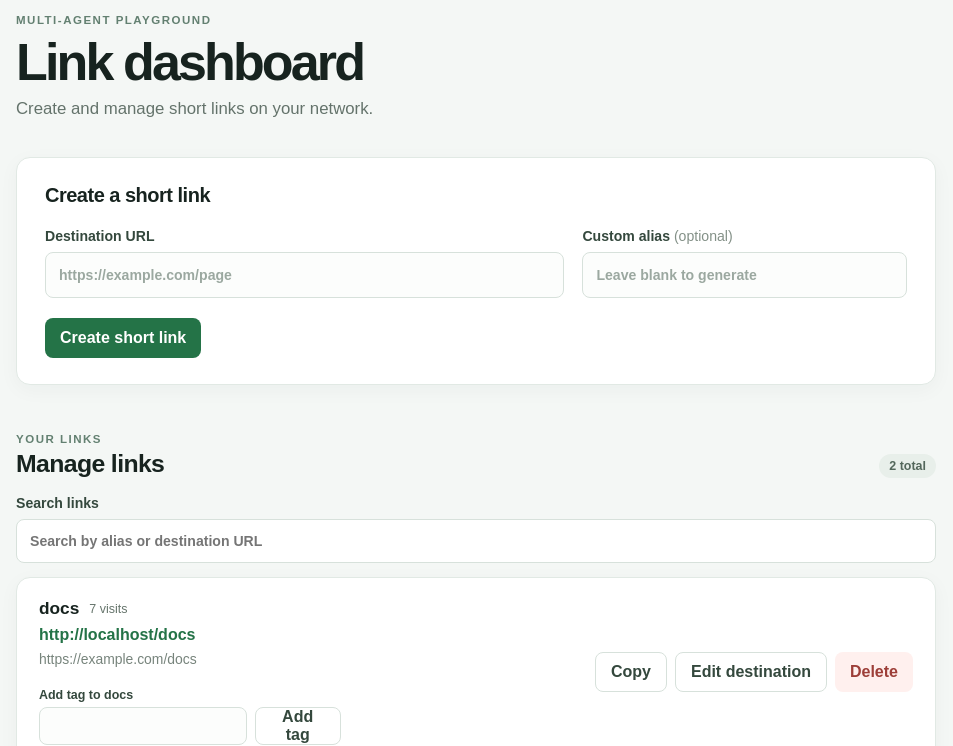
Test case: link dashboard › filters links by alias as the query is typed
The image size is (953, 746).
Check: the heading "docs" is shown, box [39,598,79,619]
Type "blo" into the search field labelled "Search links".
click(476, 541); type("blo")  # box [16,519,936,563]
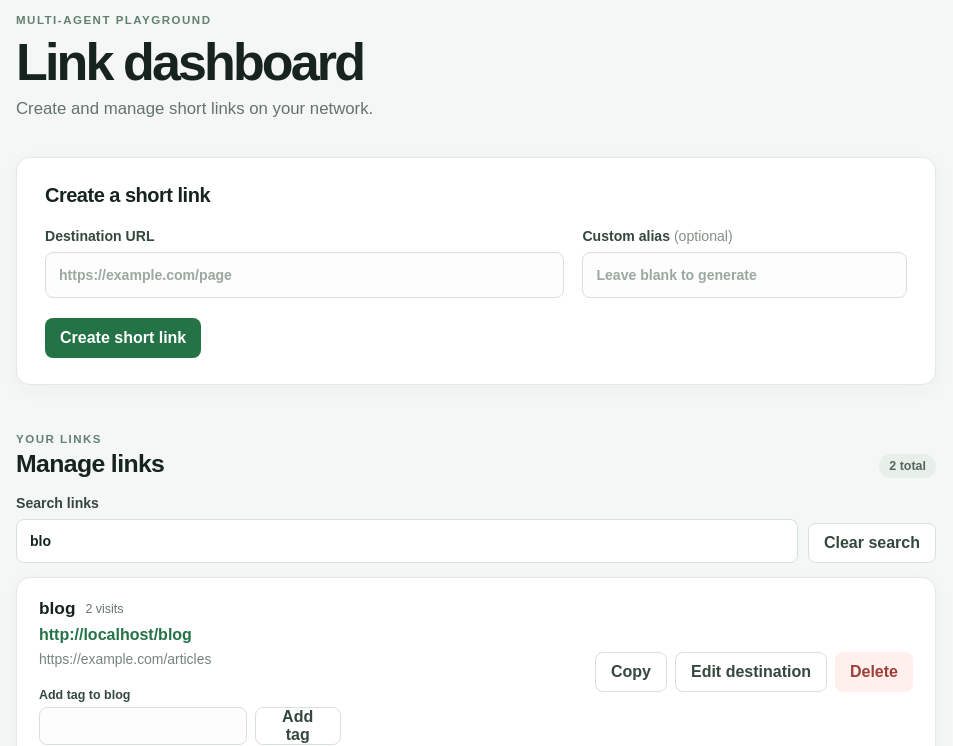
Check: the heading "blog" is shown, box [39,598,75,619]
Check: the heading "docs" is gone
Clear the search field labelled "Search links" at (407, 541), box [16,519,798,563]
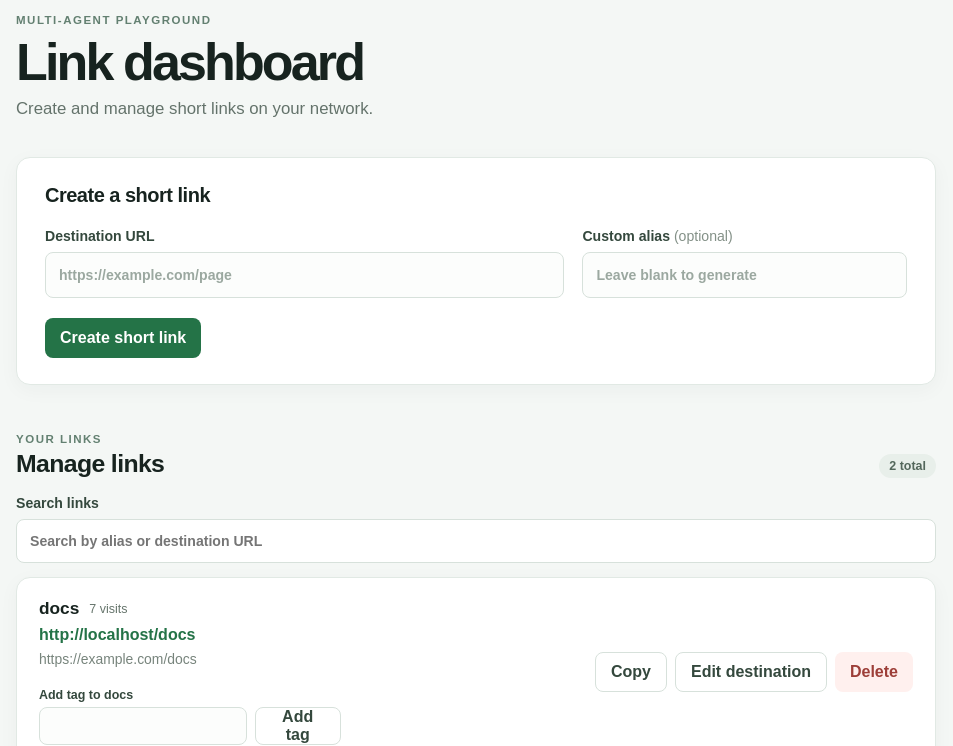
Check: the heading "docs" is shown, box [39,598,79,619]
